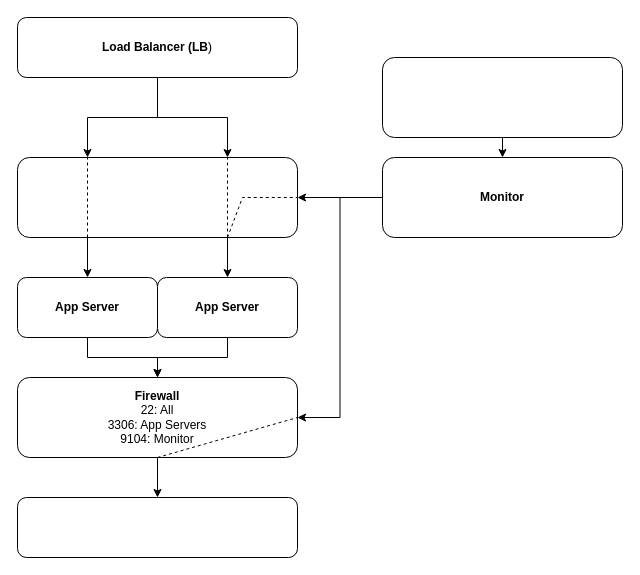
The diagram is 640 pixels wide and 575 high, and some of its shapes have lost their labels. The centre of each missing label's shape, as x and y in pixels:
DB Server: the point at 157,527
Firewall 22/80/443: All: the point at 502,97
Firewall 22: All 80/443: LB 9104: Monitor: the point at 157,197
